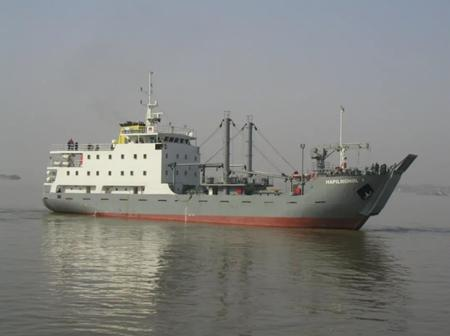warship: (39, 87, 406, 226)
